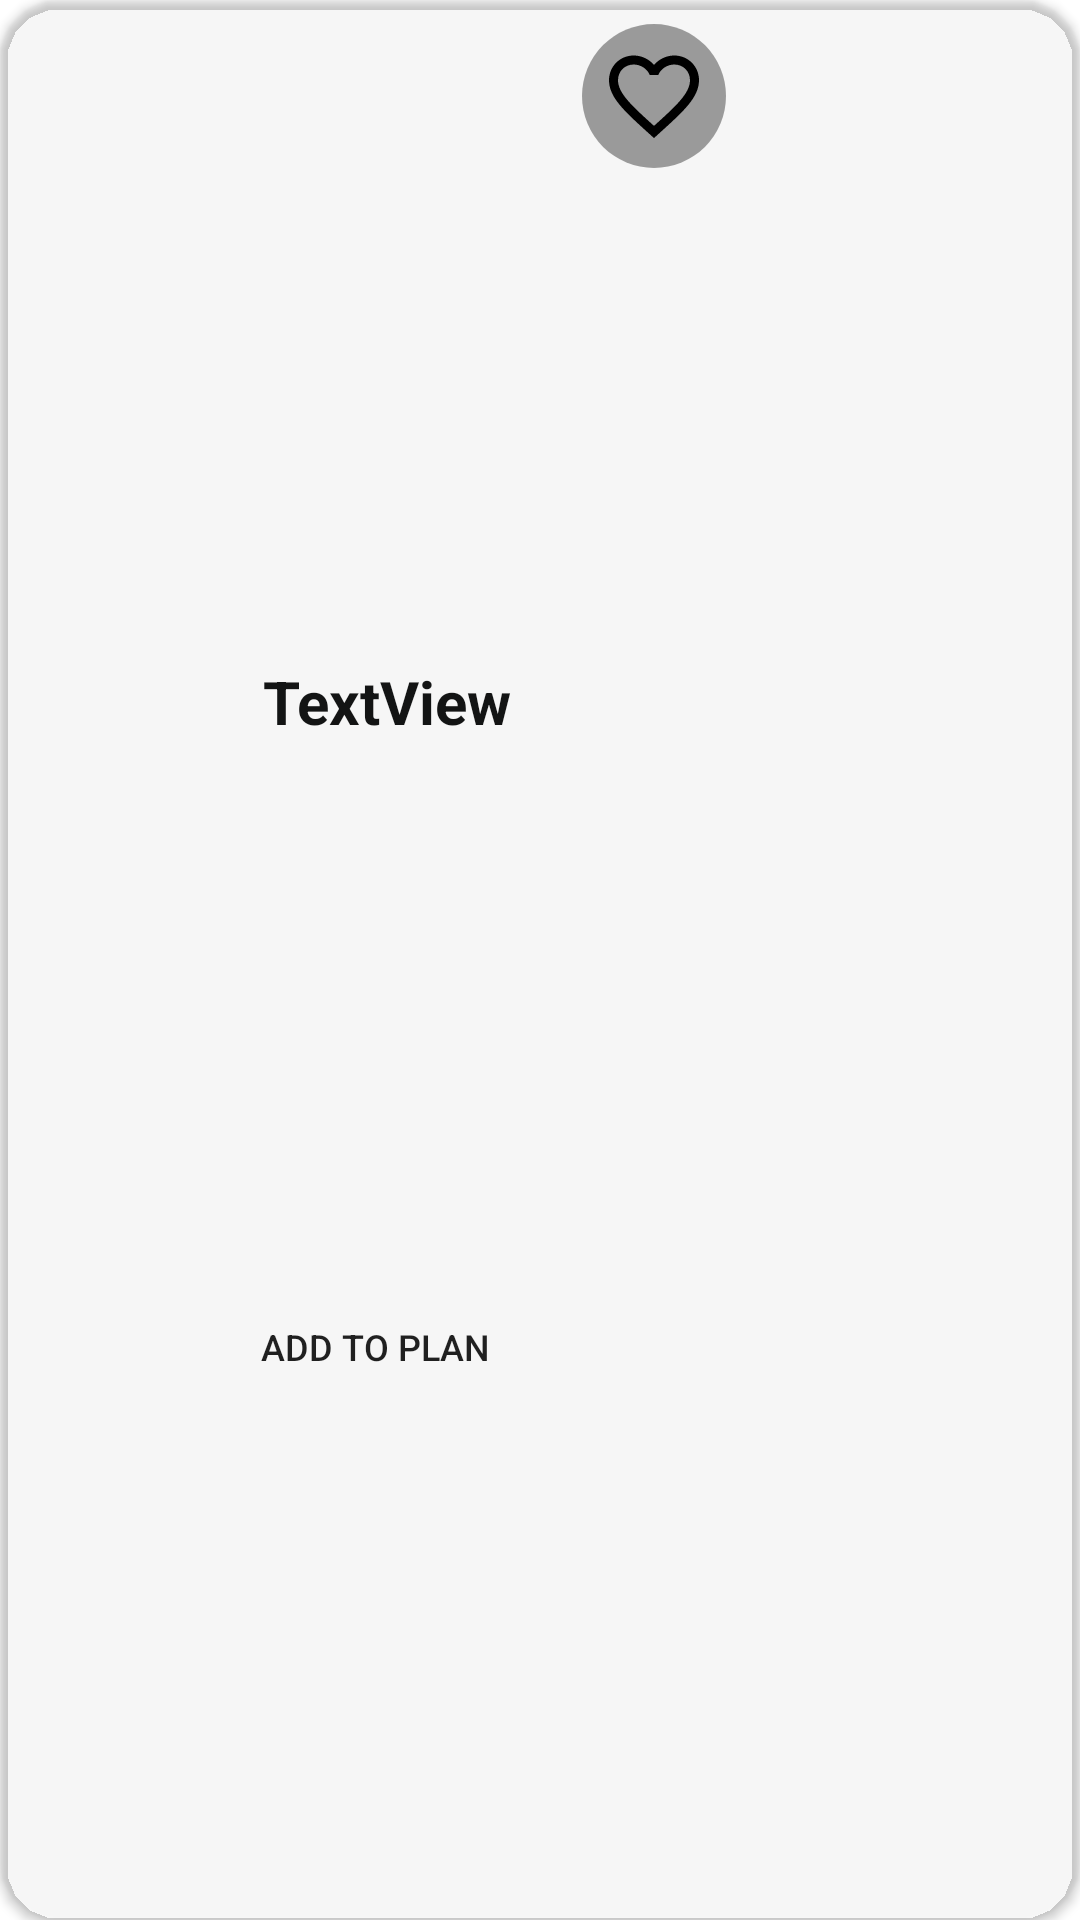

Where icons sit on this 1080w x 1920h app screen, as (x1, y1, x2, y2):
favourite btn: (582, 24, 726, 168)
